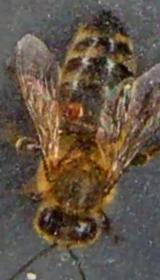varroa_mite: (62, 97, 86, 121)
